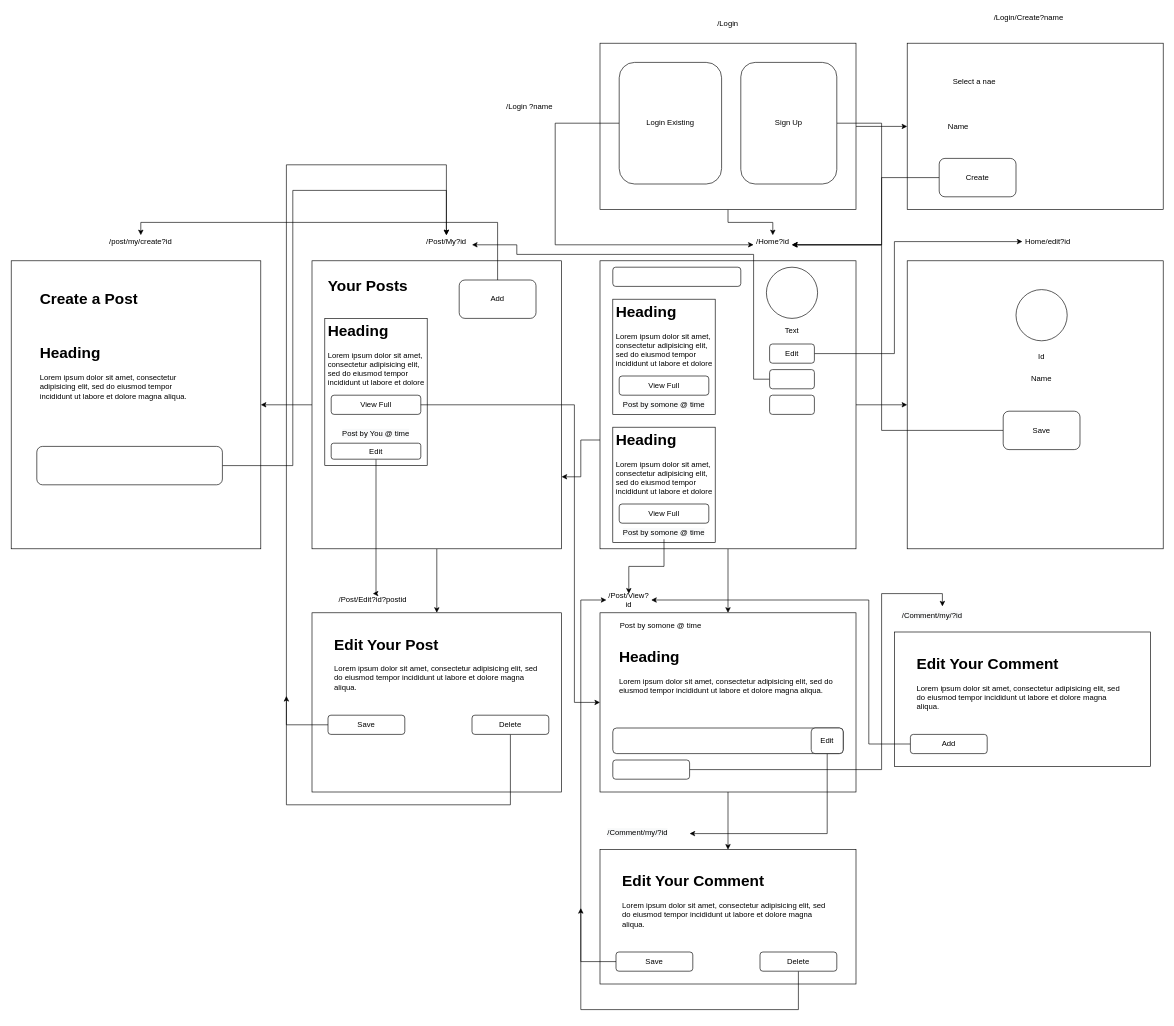
The diagram is 1174 pixels wide and 1026 high, and some of its shapes have lost their labels. The box of each missing label's shape, as (x1, y1, x2, y2) in pixels:
Add Comment: (612, 759, 690, 779)
Logout: (769, 395, 814, 414)
My Posts: (769, 369, 814, 389)
Publish: (36, 446, 222, 485)
Search: (612, 267, 741, 286)
Someone @ time said : this is a comment: (612, 727, 843, 754)
